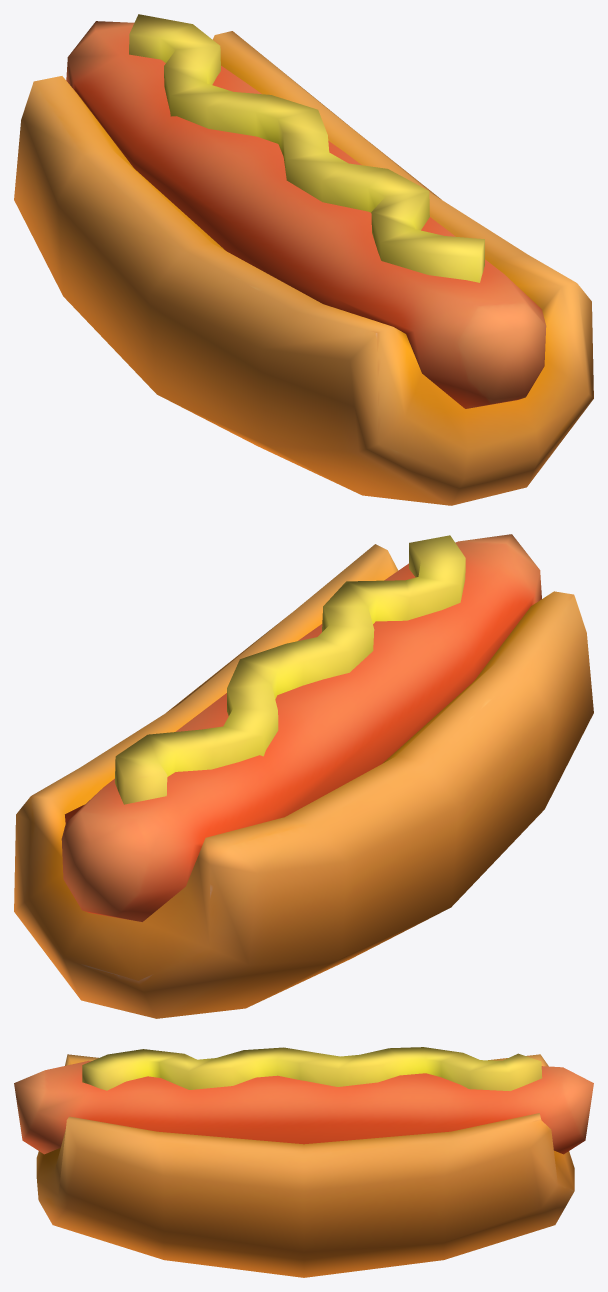
File: hotdog.glb
The picture shows the model from 3 angles, top to bottom: view 1: azimuth 30°, elevation 25°; view 2: azimuth 150°, elevation 25°; view 3: azimuth 270°, elevation 25°; orthographic projection. The views are drawn at different scales.
Parts seen in each view (by area): view 1: HotDog_Foodback_Materials_10_20_0; view 2: HotDog_Foodback_Materials_10_20_0; view 3: HotDog_Foodback_Materials_10_20_0.
Boxes of the visible parts, bbox=[...] form: HotDog_Foodback_Materials_10_20_0: bbox=[14, 14, 593, 505]; HotDog_Foodback_Materials_10_20_0: bbox=[14, 534, 593, 1018]; HotDog_Foodback_Materials_10_20_0: bbox=[14, 1047, 593, 1277].
Bounding box in the file's own units: 1.03 × 0.935 × 2.4.
1 material, 1 textured.
